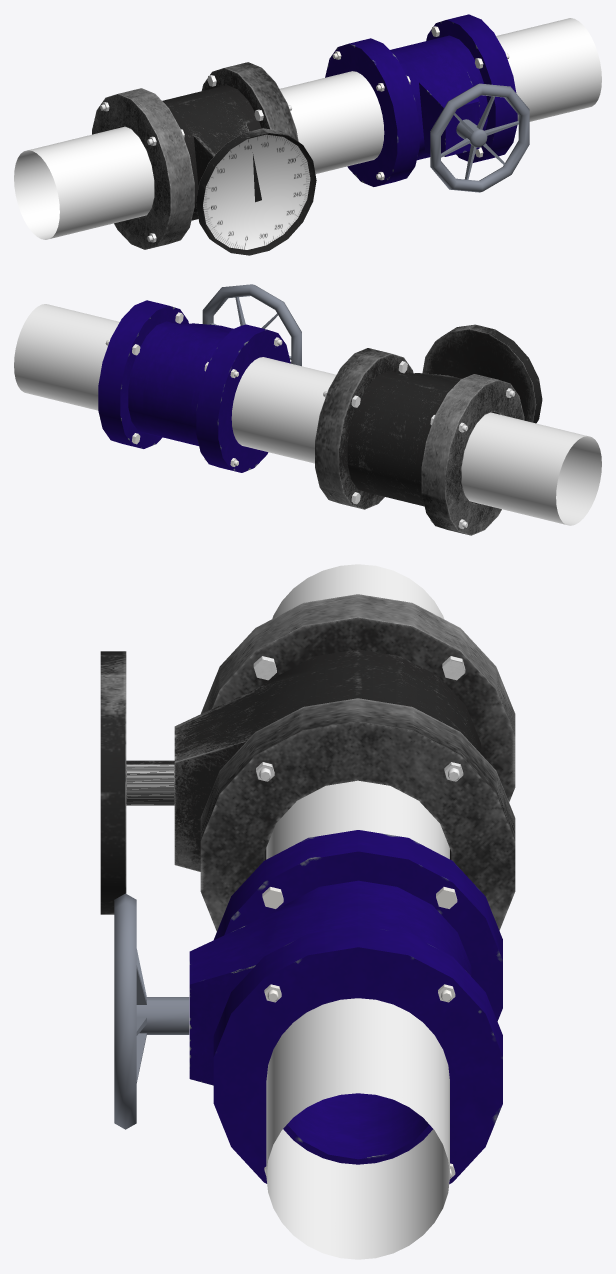
Rendered from Pump@GaugeValveSide.fbx.
3 renders of one model, top to bottom at view 1: azimuth 30°, elevation 25°; view 2: azimuth 150°, elevation 25°; view 3: azimuth 270°, elevation 25°, orthographic. The views are drawn at different scales.
Visible parts, largest first — view 1: Pressure_Gauge_side_lp, IntakePiping_side_lp, IsoValve_side_lp, IsoValve_side_lp.001; view 2: Pressure_Gauge_side_lp, IntakePiping_side_lp, IsoValve_side_lp, IsoValve_side_lp.001; view 3: Pressure_Gauge_side_lp, IsoValve_side_lp, IntakePiping_side_lp, IsoValve_side_lp.001.
Part boxes in pixels (bbox=[...]): Pressure_Gauge_side_lp: bbox=[92, 62, 316, 255]; IntakePiping_side_lp: bbox=[14, 18, 601, 239]; IsoValve_side_lp: bbox=[325, 14, 517, 186]; IsoValve_side_lp.001: bbox=[430, 83, 529, 192]; Pressure_Gauge_side_lp: bbox=[315, 324, 542, 535]; IntakePiping_side_lp: bbox=[14, 304, 601, 525]; IsoValve_side_lp: bbox=[98, 300, 290, 472]; IsoValve_side_lp.001: bbox=[202, 284, 301, 366]; Pressure_Gauge_side_lp: bbox=[100, 594, 515, 931]; IsoValve_side_lp: bbox=[189, 830, 502, 1183]; IntakePiping_side_lp: bbox=[266, 564, 449, 1259]; IsoValve_side_lp.001: bbox=[114, 893, 189, 1129].
Size of the model in its own units: 232 by 59.15 by 76.78.
